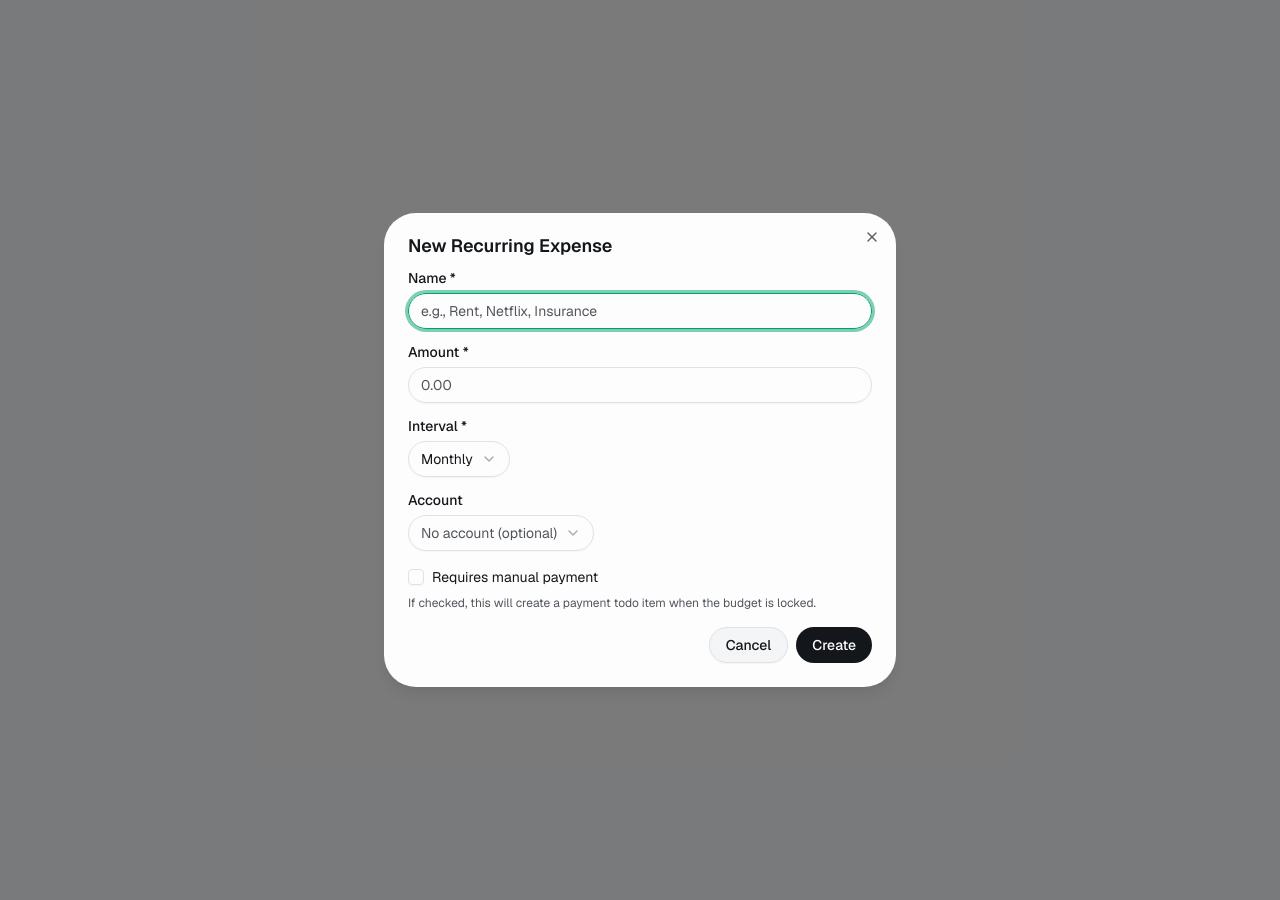
Test: CreateRecurringExpenseModal › allows selecting different intervals
Click the dropdown named "interval" at (459, 459), box [408,441,510,477]
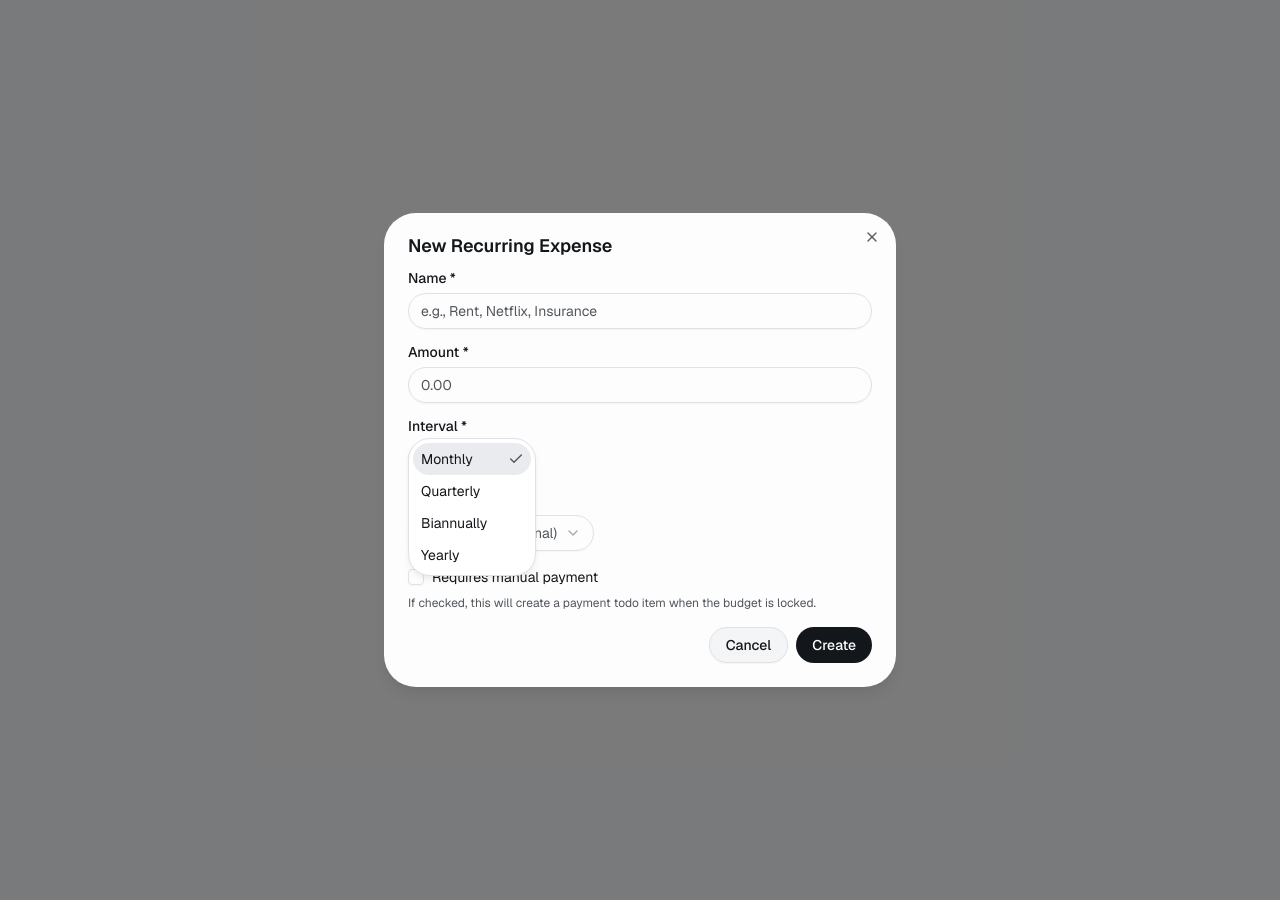
Click the option "Yearly" at (440, 555), box [421,546,460,564]
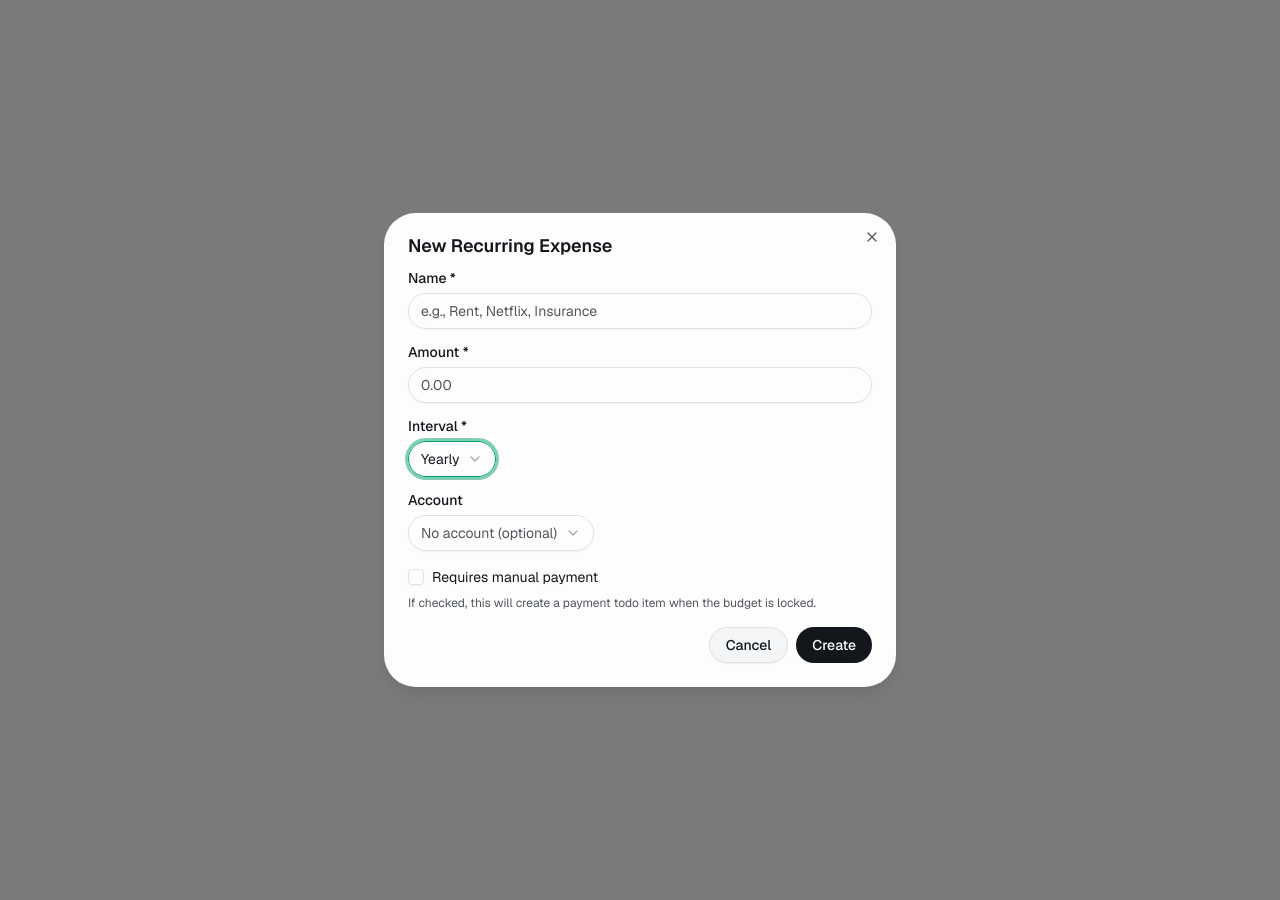
expect the dropdown named "interval" reads "Yearly": met, box [408,441,496,477]
